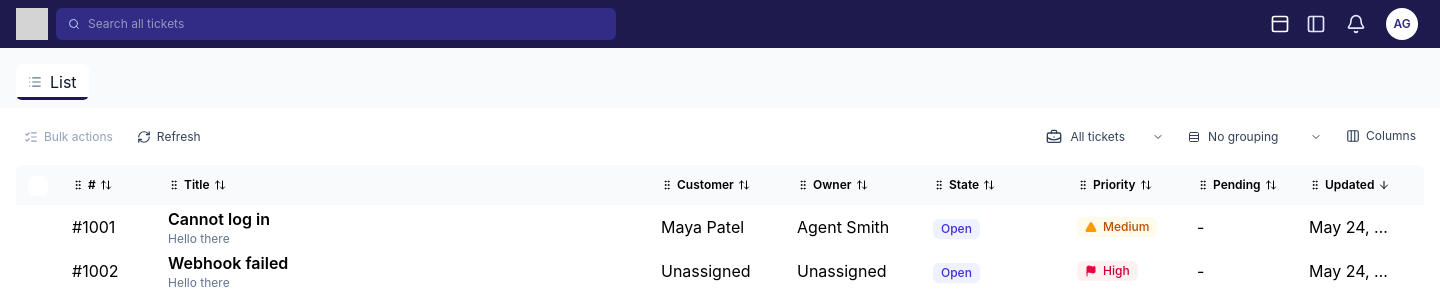
Scenario: TicketWorkspace › searches all provider tickets without filtering the loaded saved view
Type keys "{Control>}k{/Control}"
Type "webhook" into the dropdown labelled "Search all tickets" at (346, 24), box [88,16,604,32]
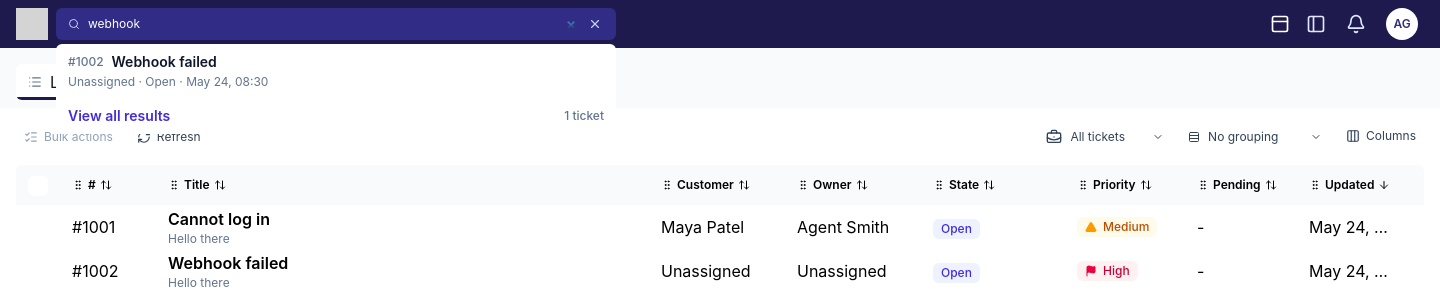
Expected: the text "Webhook failed" next to "Select #1002" is shown, [168,253,288,273]
Result: the option "#1002 Webhook failed Unassigned · Open · May 24, 08:30" is shown at [56,44,616,98]
Press Enter
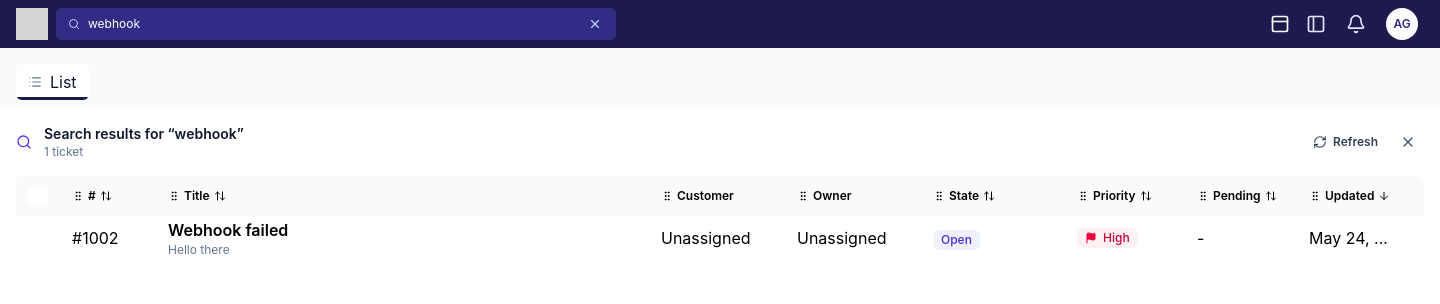
Result: the text "Search results for “webhook”" is shown at [44,124,244,144]
Result: the button "Cannot log in" is gone
